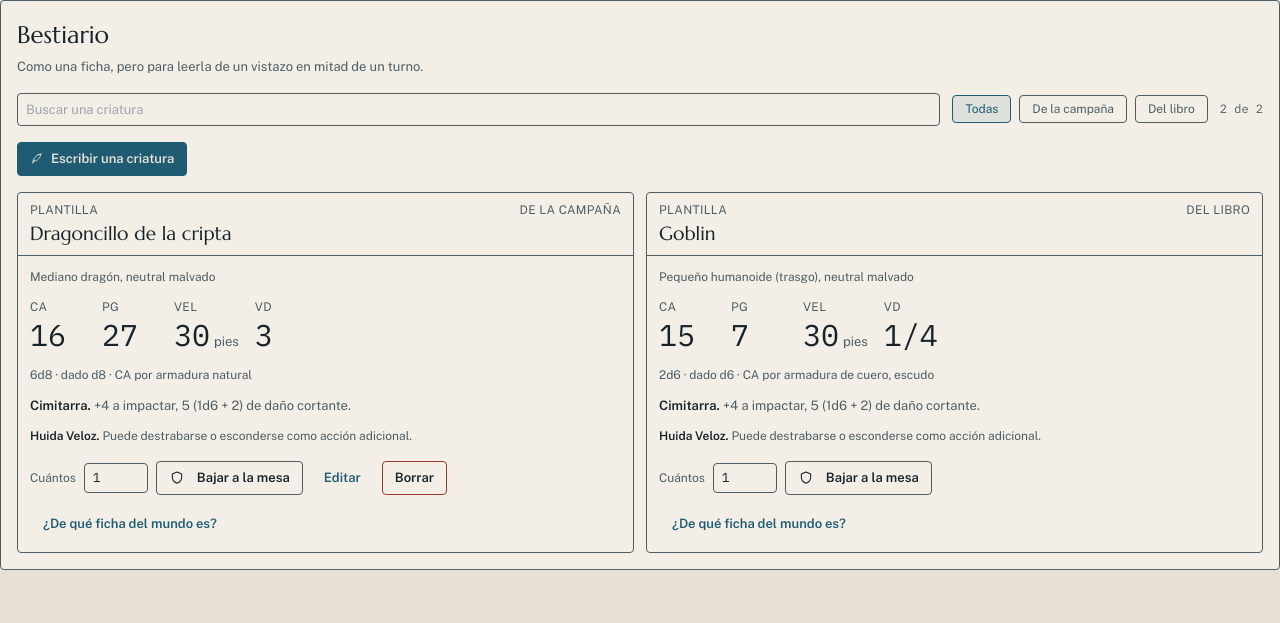
PanelDeBestiario — bajar una criatura a la mesa › baja la cantidad que se pide, y avisa de que solo la ve el DM
This screenshot has width=1280, height=623.
Check: the heading "Goblin" is shown, box x1=659 y1=220 x2=716 y2=244
Replace the text in the number field labelled "Cuántos" below "2d6" with "2" at (745, 478), box x1=713 y1=463 x2=777 y2=492
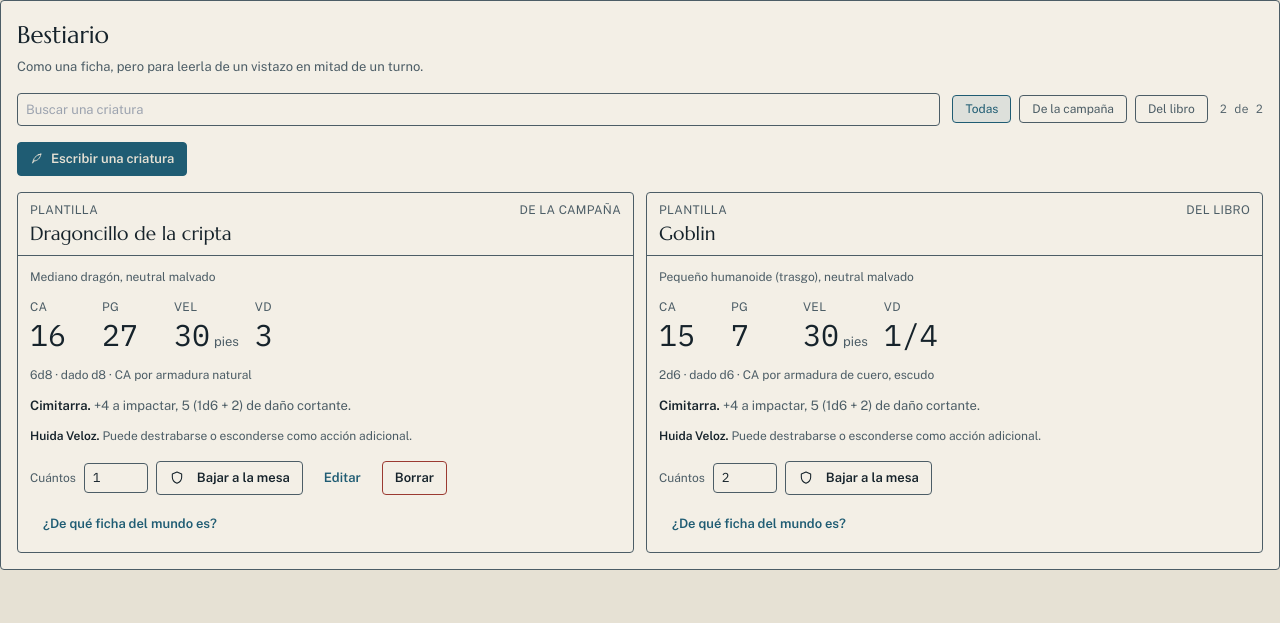
Click the button "Bajar a la mesa" below "2d6".
click(858, 478)  # box x1=785 y1=461 x2=932 y2=494
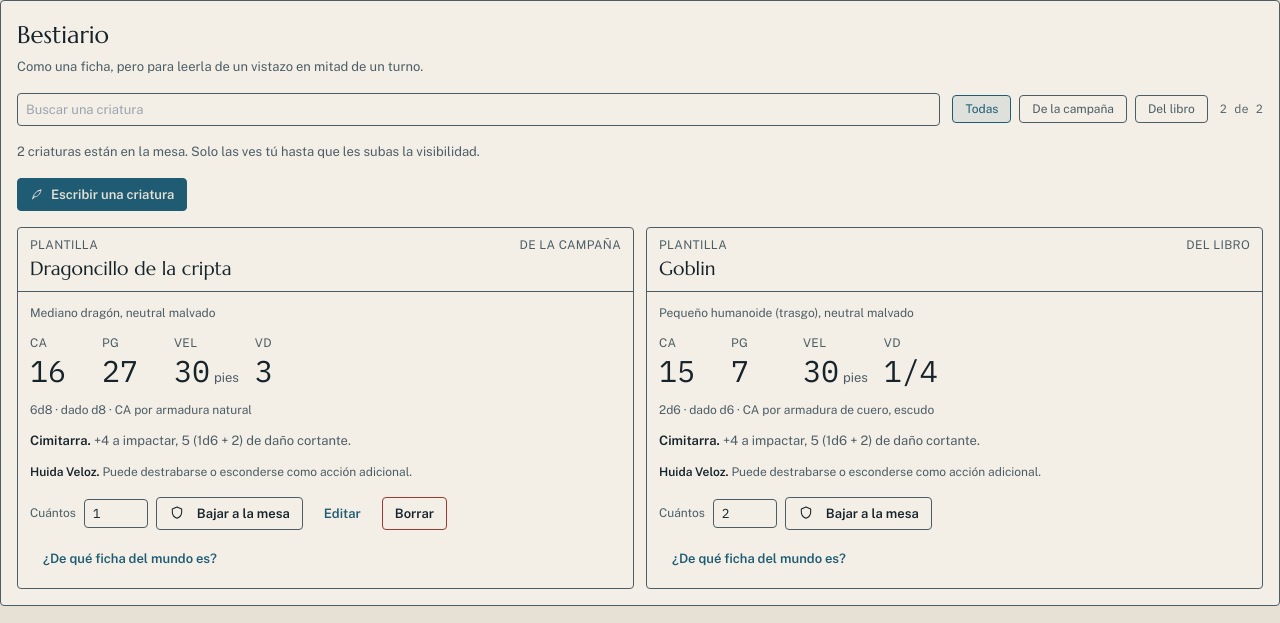
Check: the message shows "Solo las ves tú", box x1=17 y1=144 x2=480 y2=159
